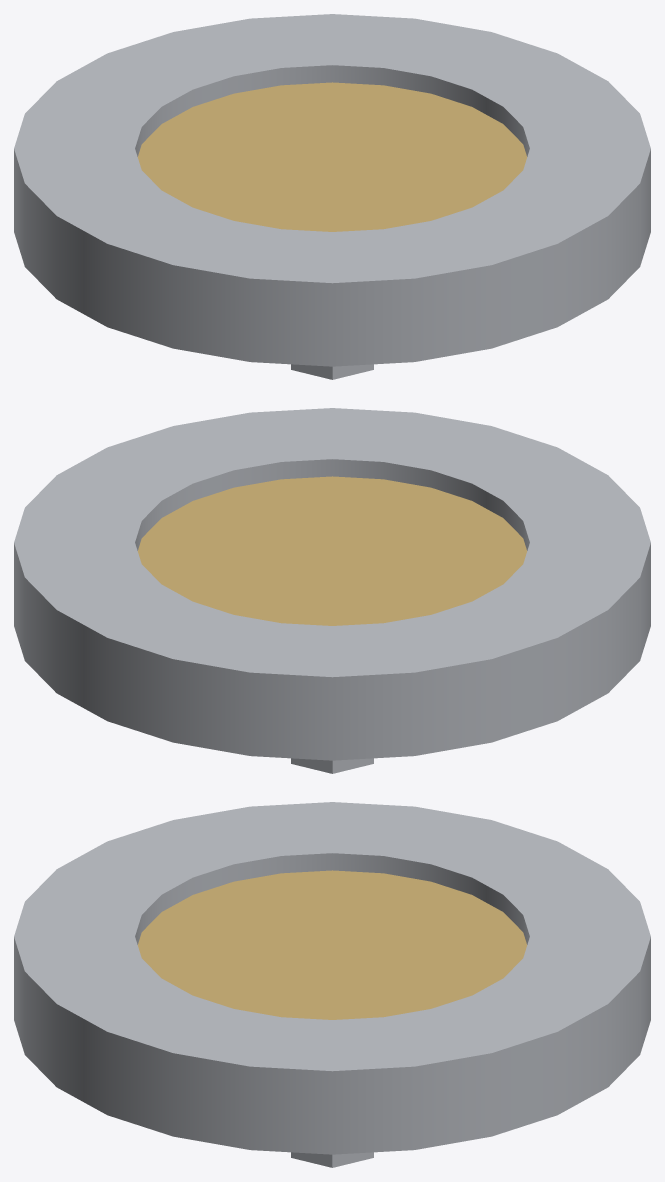
Rendered from kite.glb.
3 renders of one model, top to bottom at view 1: azimuth 30°, elevation 25°; view 2: azimuth 150°, elevation 25°; view 3: azimuth 270°, elevation 25°, orthographic.
Visible parts, largest first — view 1: core_kite; view 2: core_kite; view 3: core_kite.
Part boxes in pixels (x1=…): core_kite: x1=14, y1=14, x2=650, y2=379; core_kite: x1=14, y1=408, x2=650, y2=773; core_kite: x1=14, y1=802, x2=650, y2=1167.
Bounding box in the file's own units: 20 × 4.89 × 20.
